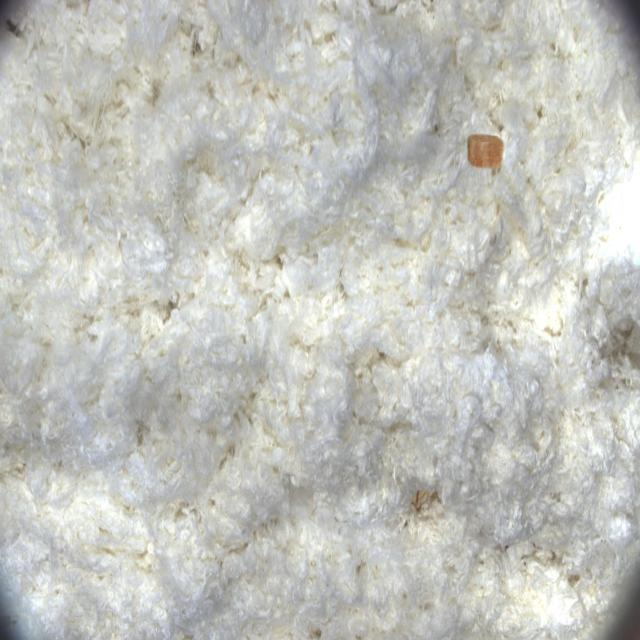dust: (440, 99, 528, 193)
